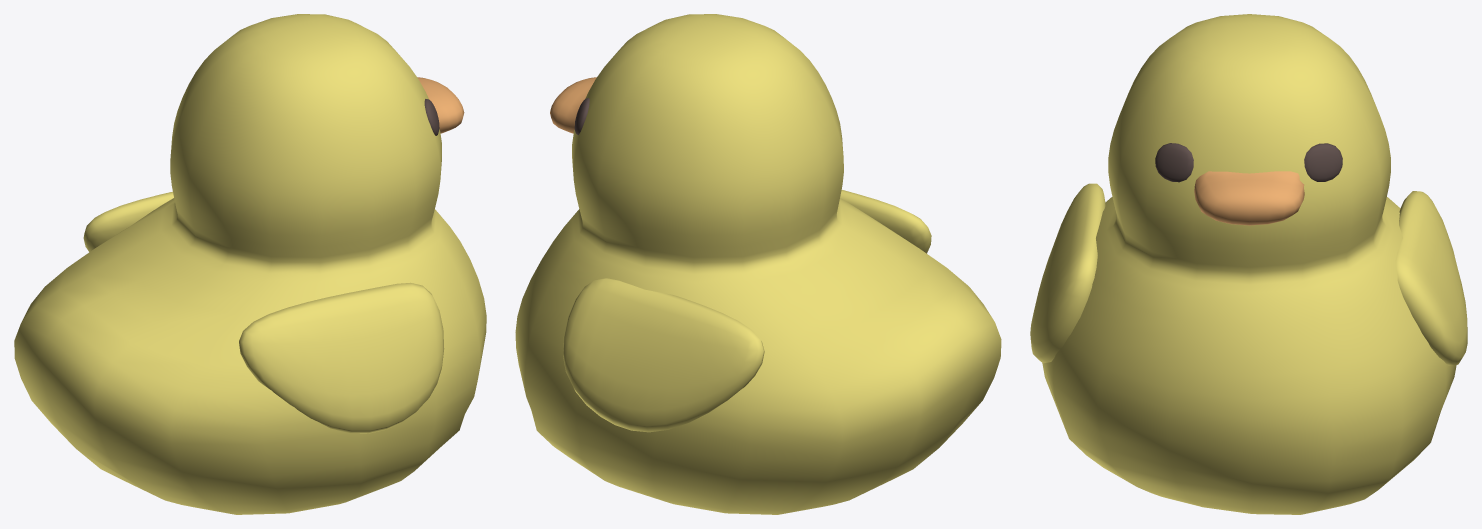
File: patito.fbx
3 views of the same model, side by side, from view 1: azimuth 30°, elevation 25°; view 2: azimuth 150°, elevation 25°; view 3: azimuth 270°, elevation 25° (orthographic). The views are drawn at different scales.
Visible parts, largest first — view 1: Cube, Cube.001; view 2: Cube, Cube.001; view 3: Cube, Cube.001, Cube.002, Cube.003.
Part boxes in pixels (<box>): Cube: <box>14,14,486,514</box>; Cube.001: <box>417,77,464,133</box>; Cube: <box>515,14,1001,514</box>; Cube.001: <box>550,77,596,133</box>; Cube: <box>1030,14,1467,514</box>; Cube.001: <box>1194,171,1304,225</box>; Cube.002: <box>1155,143,1193,182</box>; Cube.003: <box>1304,143,1342,181</box>.
Bounding box in the file's own units: 210 × 203 × 178.
